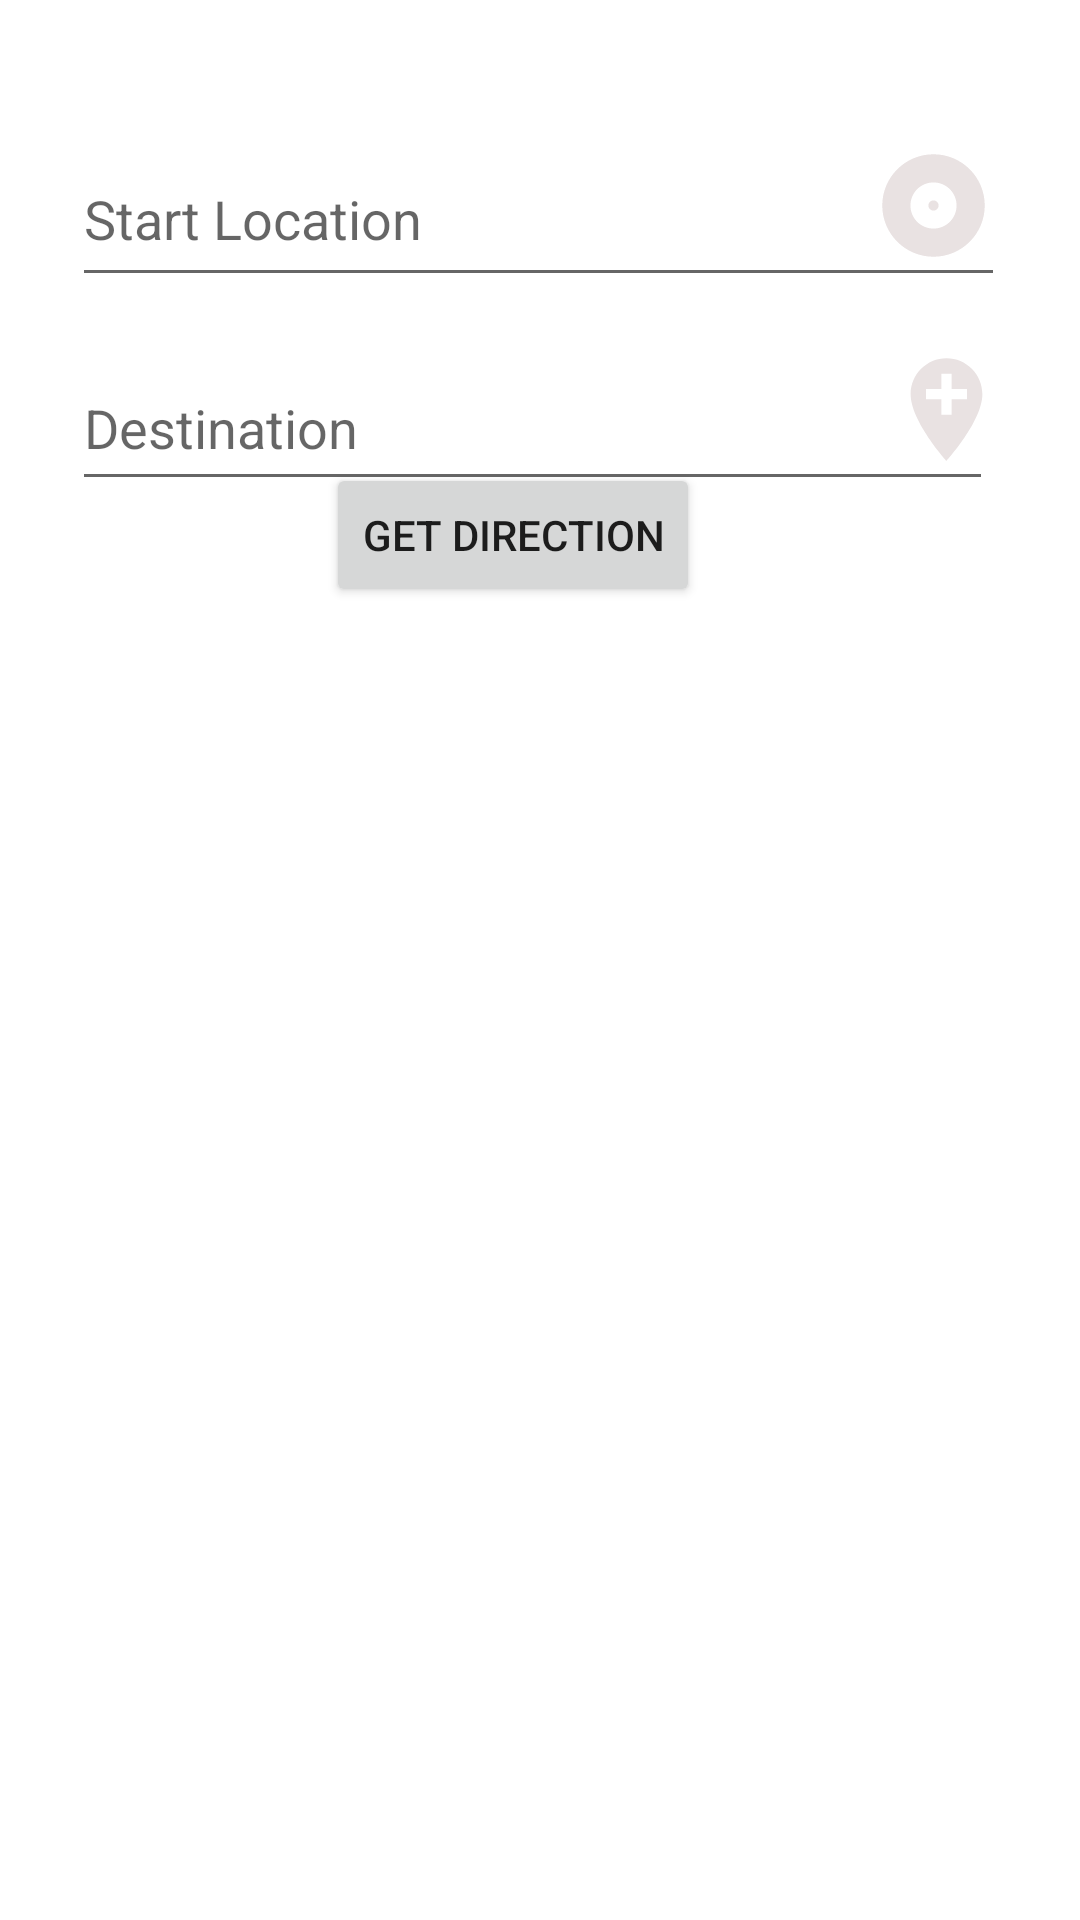

Named icons in this screenshot (1080w x 1920h) and their bounding boxes, BBox(x1, y1, x2, y2):
add location: BBox(911, 359, 982, 460)
album: BBox(883, 155, 984, 256)
